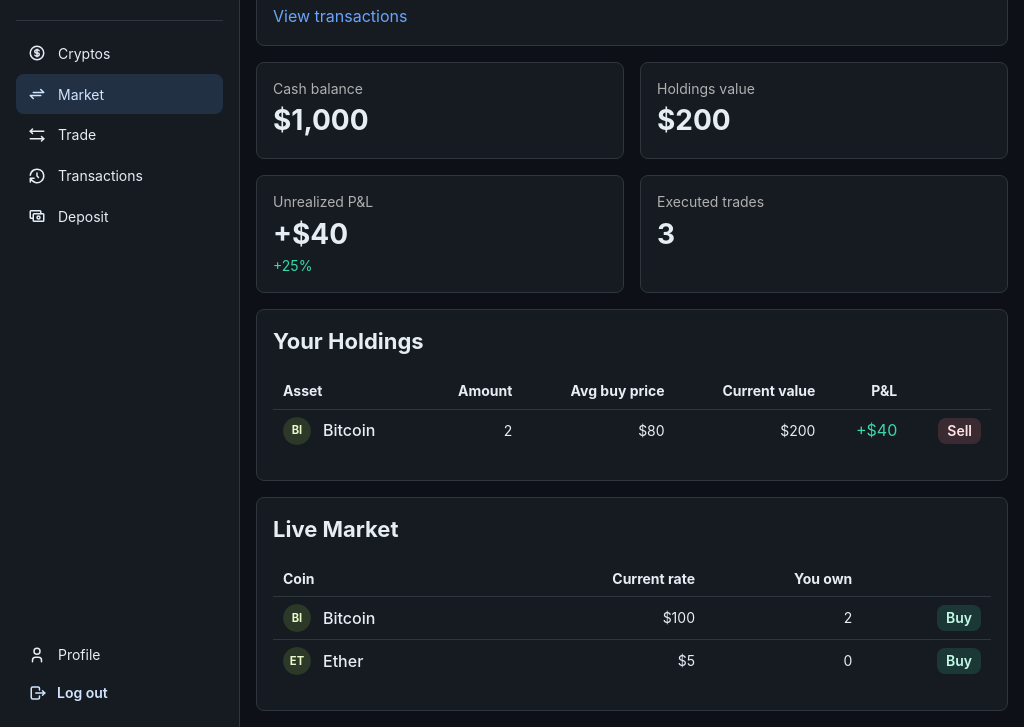
Test case: MarketPage › fills the max buy amount from the balance
(page scrolled)
Click the button with aria-label "Buy Ether": (959, 661) [937,648,981,674]
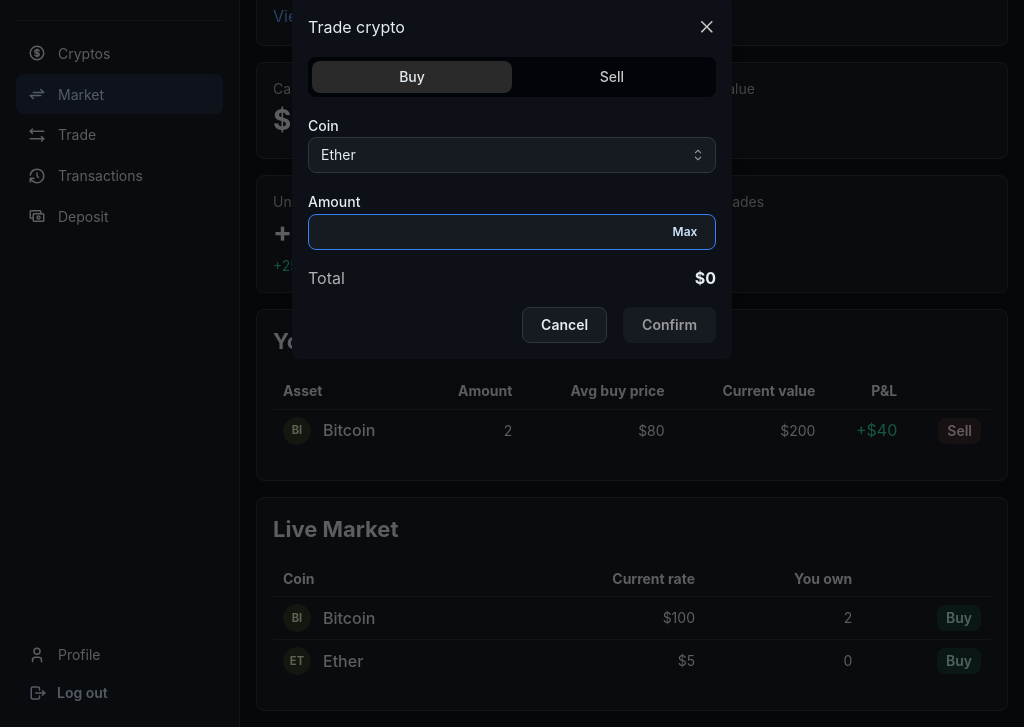
Click the button "Max": (685, 233) [665,222,705,244]
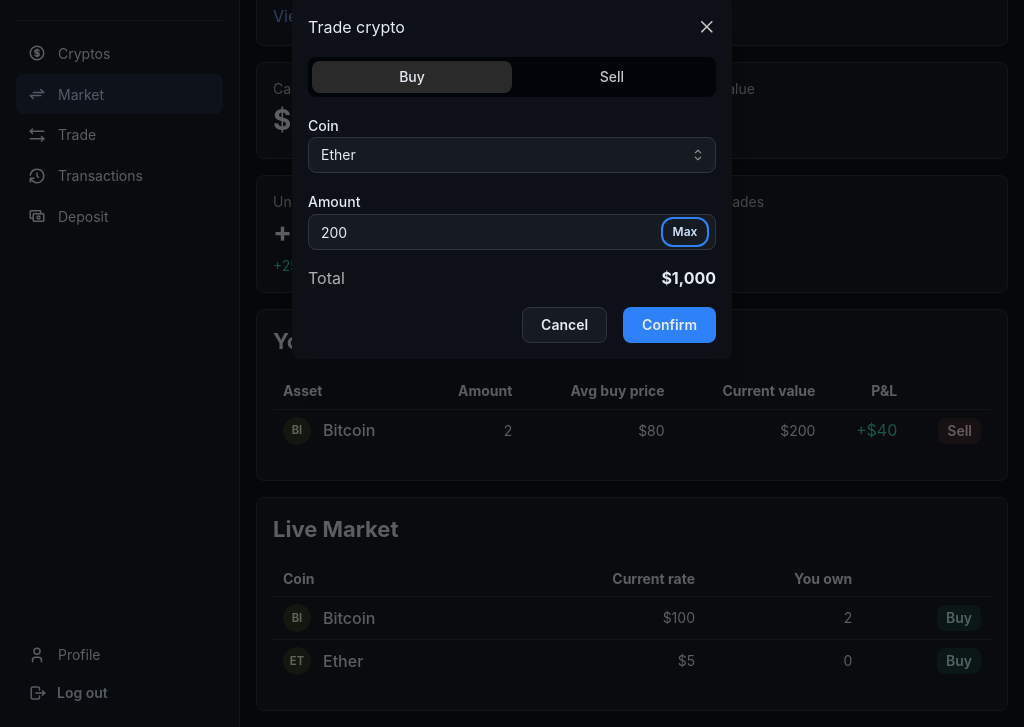
Expected: the field labelled "Amount" holds "200", [308,215,716,251]
